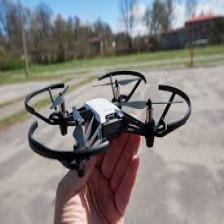drone: (24, 67, 192, 167)
